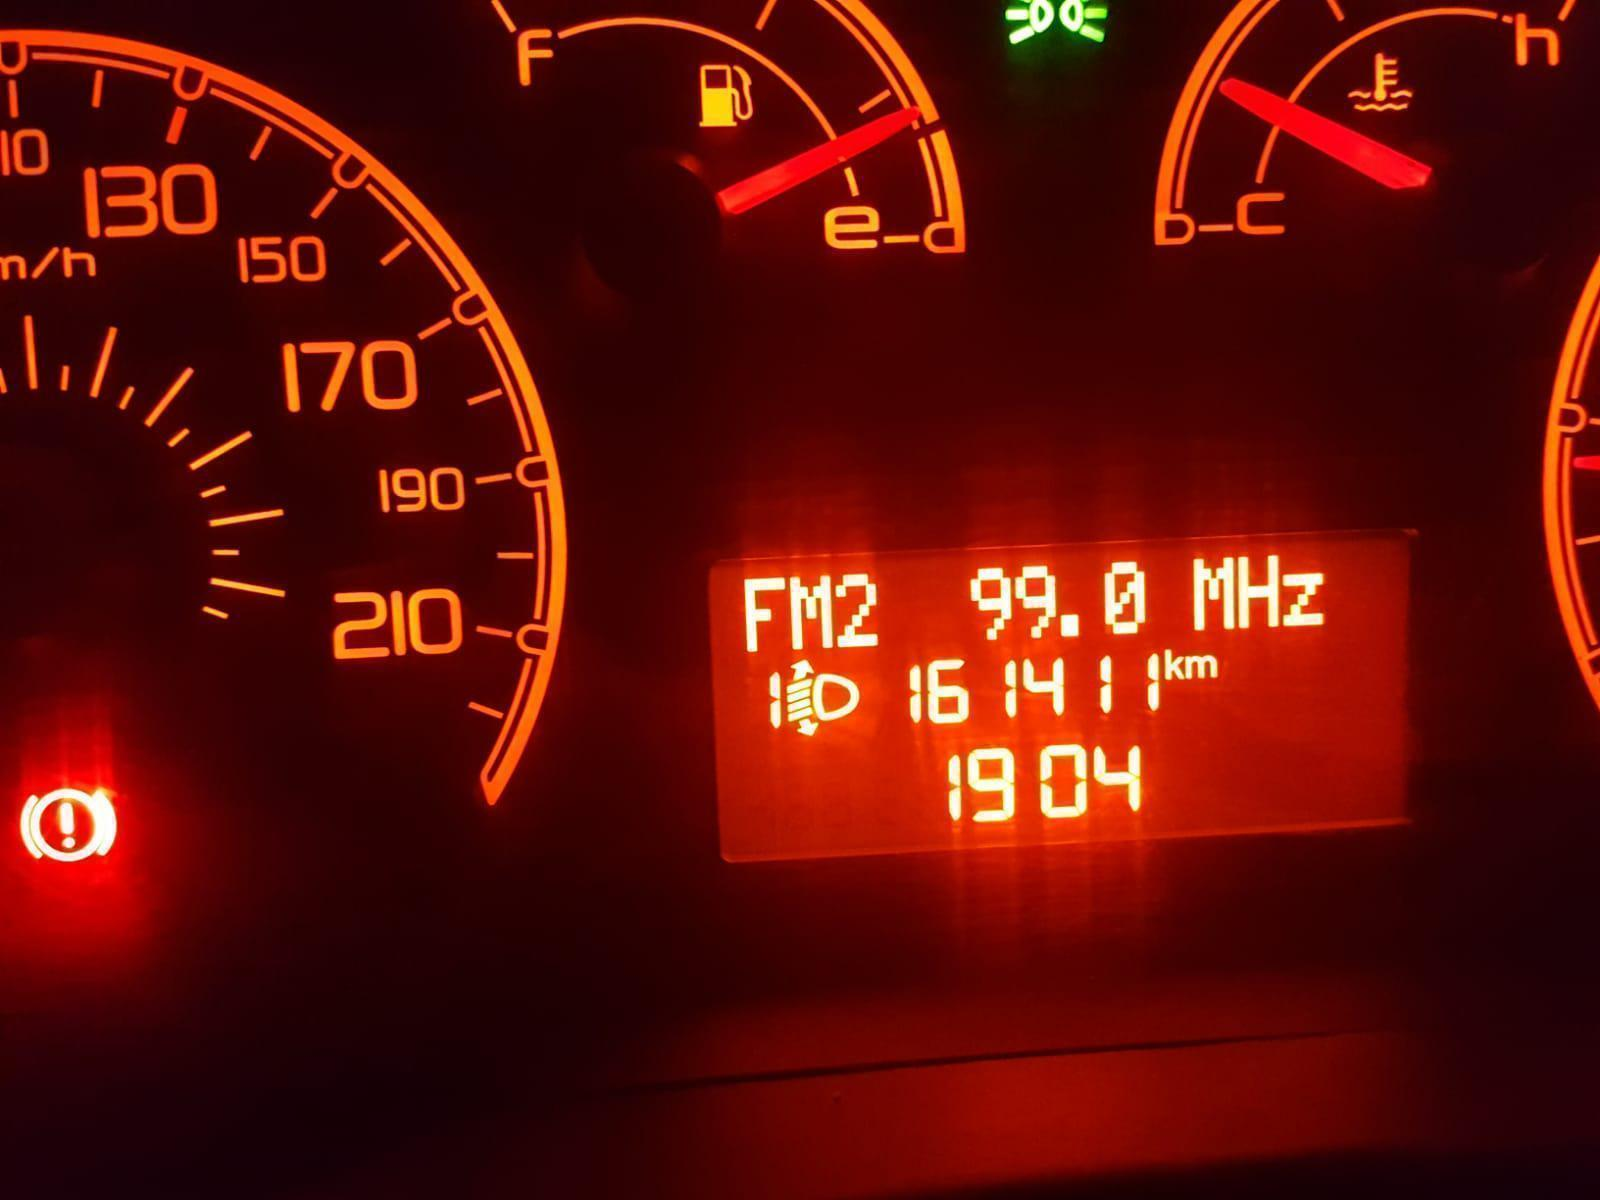,: (1058, 608, 1085, 638)
0: (1031, 739, 1089, 821), (1099, 557, 1151, 639)
1: (941, 745, 966, 829), (901, 658, 929, 726), (763, 664, 784, 737), (1094, 650, 1115, 718), (1002, 652, 1020, 722), (1144, 652, 1163, 715)
2: (837, 568, 884, 649)
4: (1095, 741, 1146, 816), (1024, 653, 1070, 718)
6: (929, 654, 973, 726)
9: (966, 741, 1019, 828), (1013, 561, 1057, 642), (968, 563, 1012, 642)
X: (785, 570, 837, 653), (1233, 550, 1283, 632), (741, 571, 785, 655), (1189, 555, 1237, 632), (1283, 567, 1327, 628), (1184, 652, 1220, 679), (1160, 645, 1186, 683)
odometer: (695, 524, 1431, 872)
